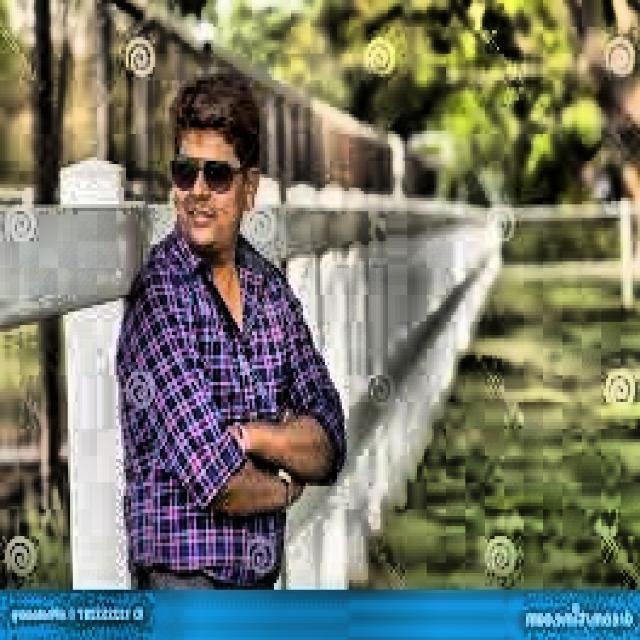Human: (108, 69, 349, 576)
